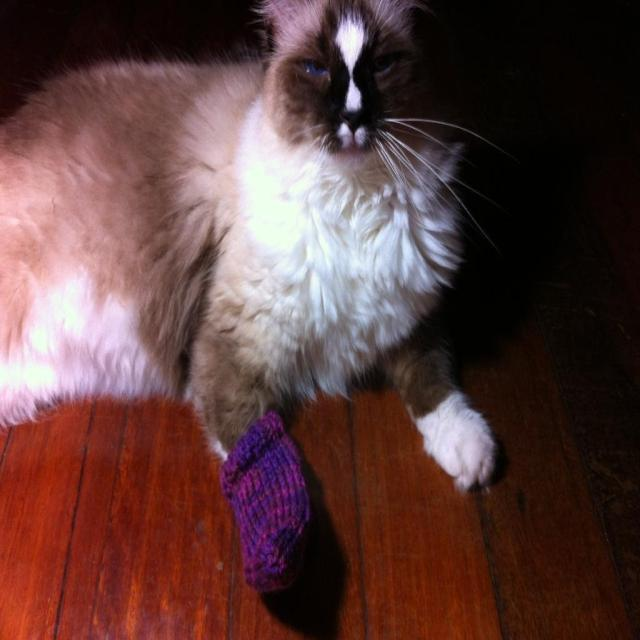Cat: (0, 0, 505, 597)
